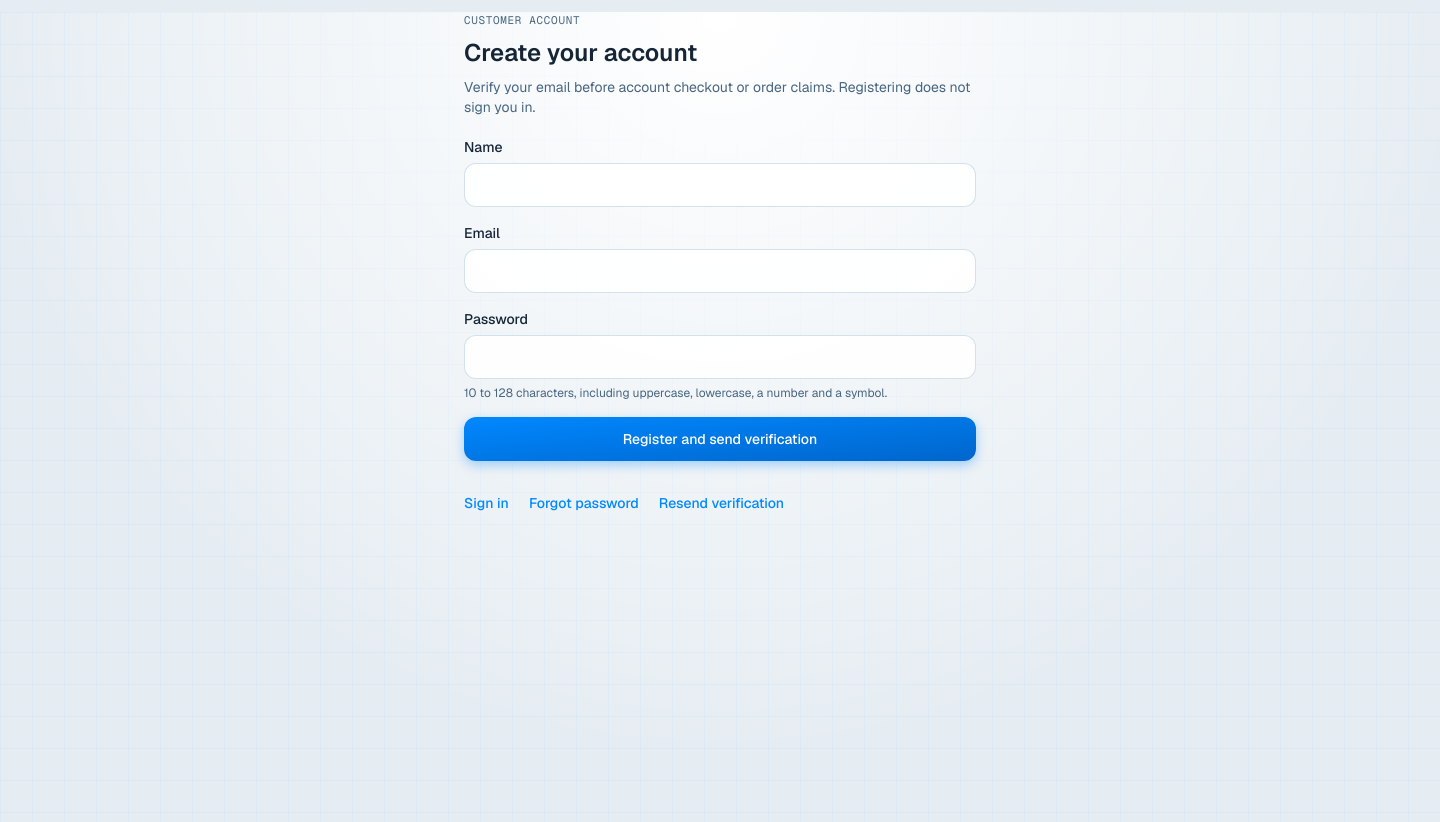
Scenario: account mutation controls › registers with generic email guidance and never logs in automatically
Type "Test Customer" into the field labelled "Name". click: {"x": 720, "y": 184}
box: [464, 162, 976, 206]
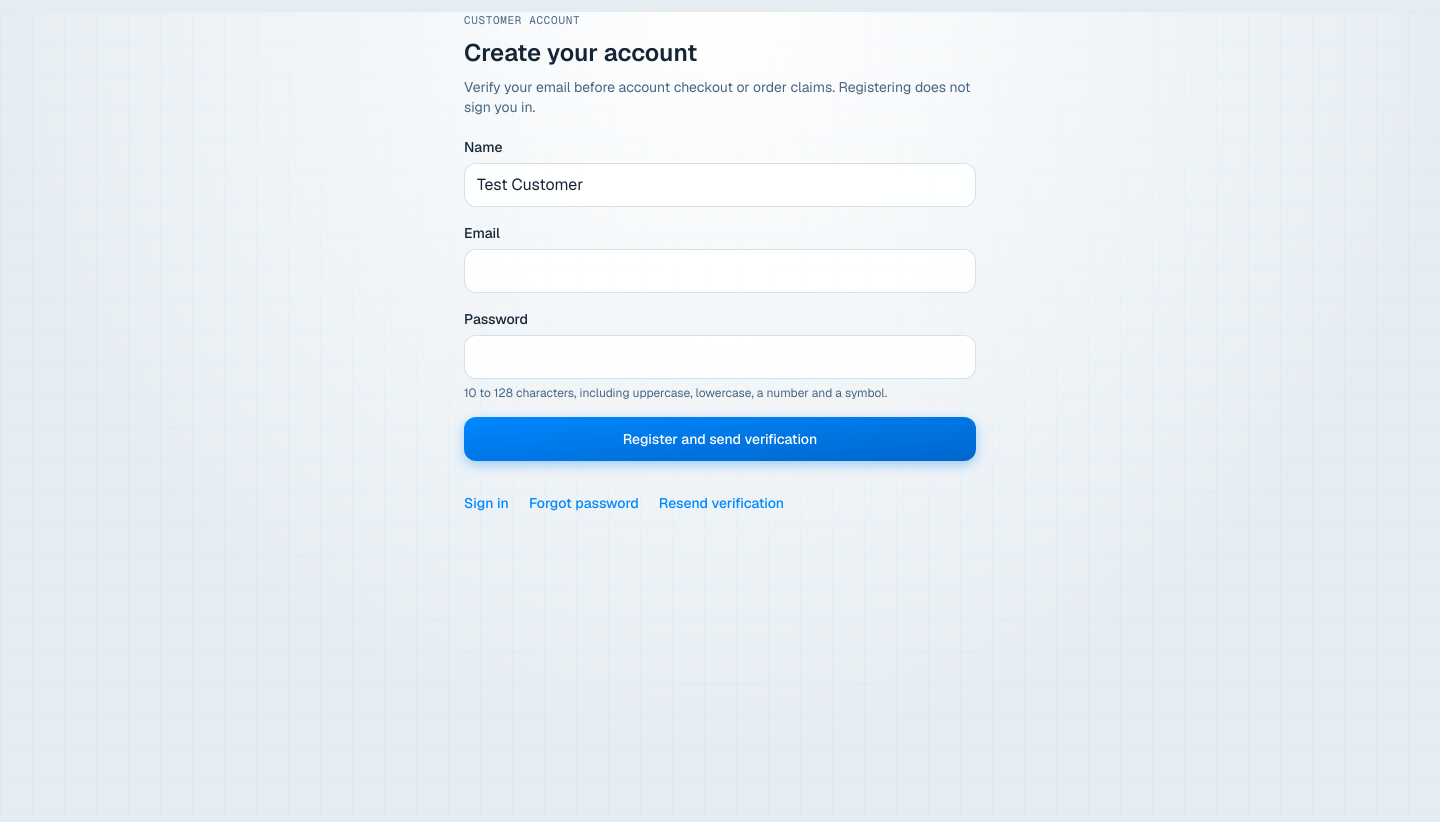
Type "customer@example.test" into the field labelled "Email". click: {"x": 720, "y": 270}
box: [464, 248, 976, 292]
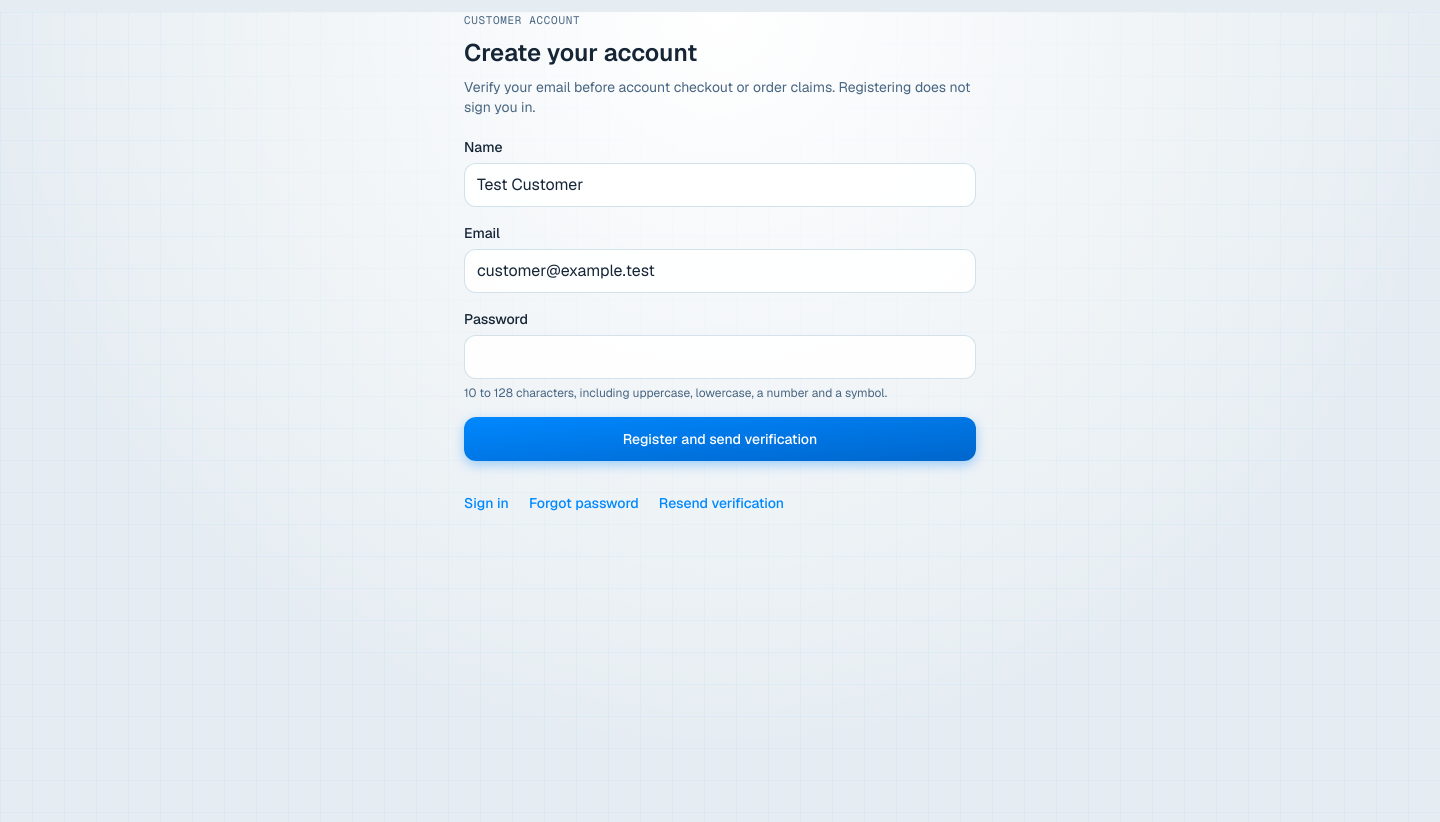
Type "Testing123!" into the password field labelled "Password". click: {"x": 720, "y": 356}
box: [464, 334, 976, 378]
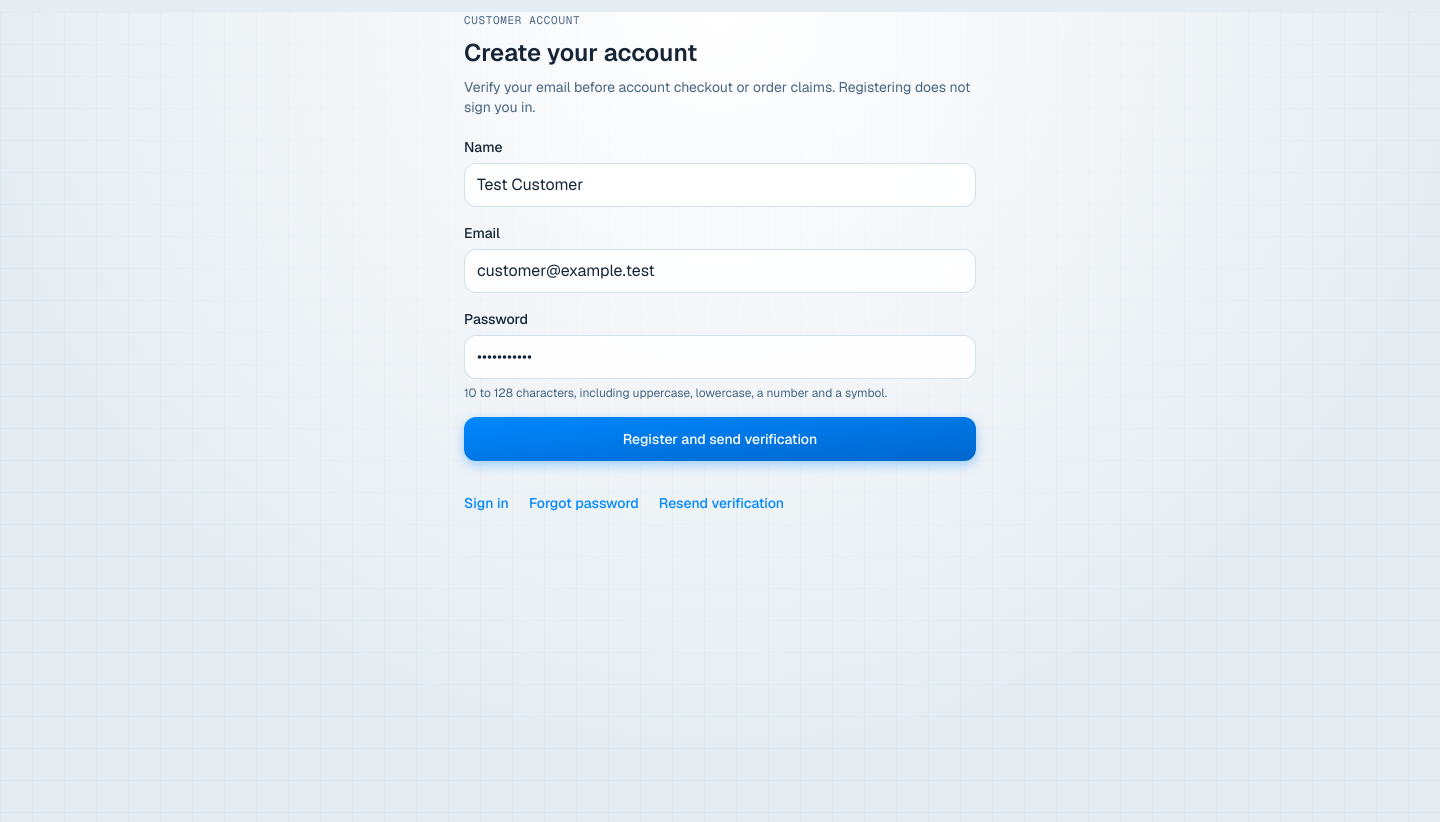
Click the button "Register and send verification". click: {"x": 720, "y": 438}
box: [464, 416, 976, 460]
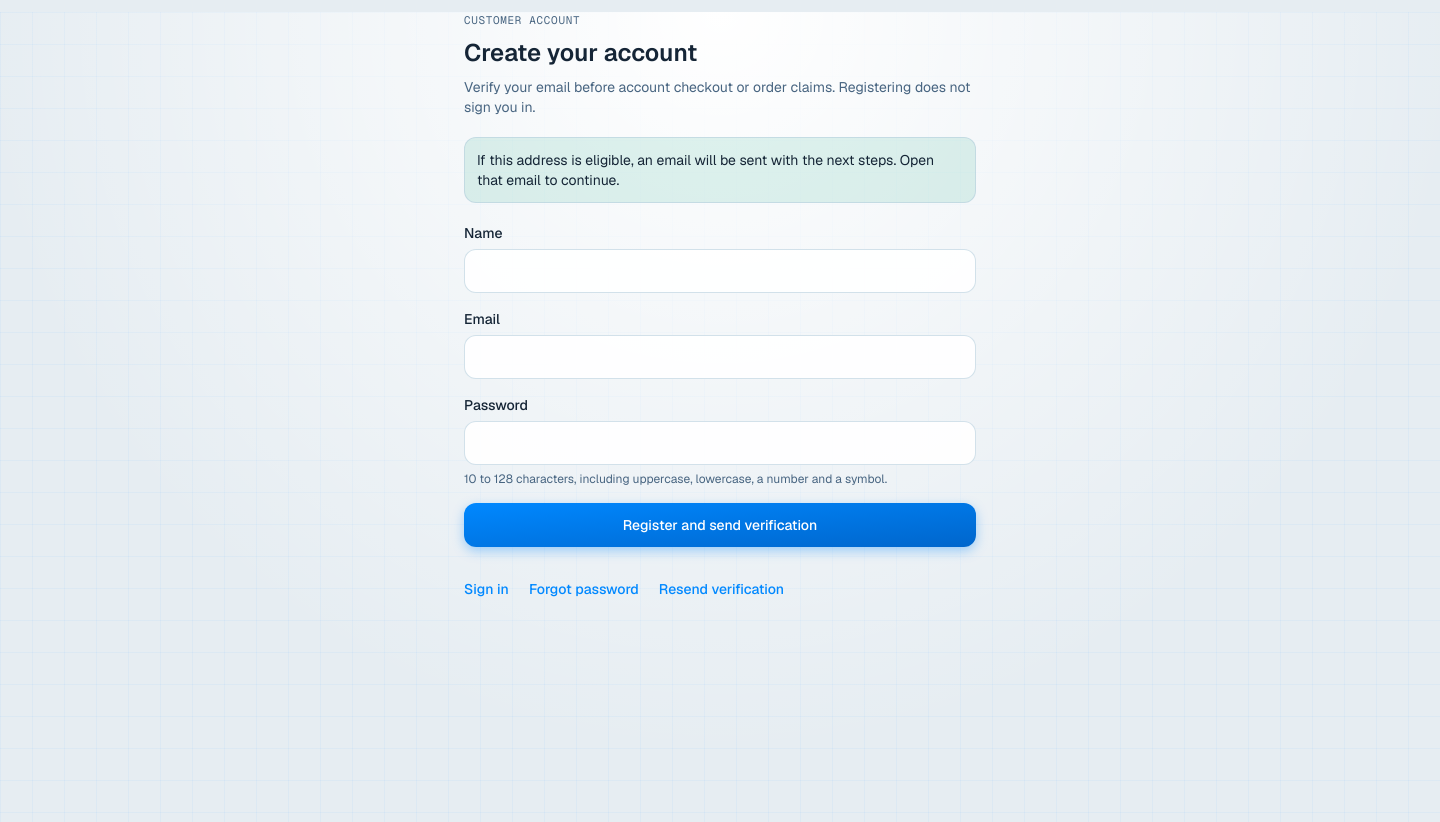
Result: the text "If this address is eligible, an email will be sent" is shown at [477, 150, 934, 188]
